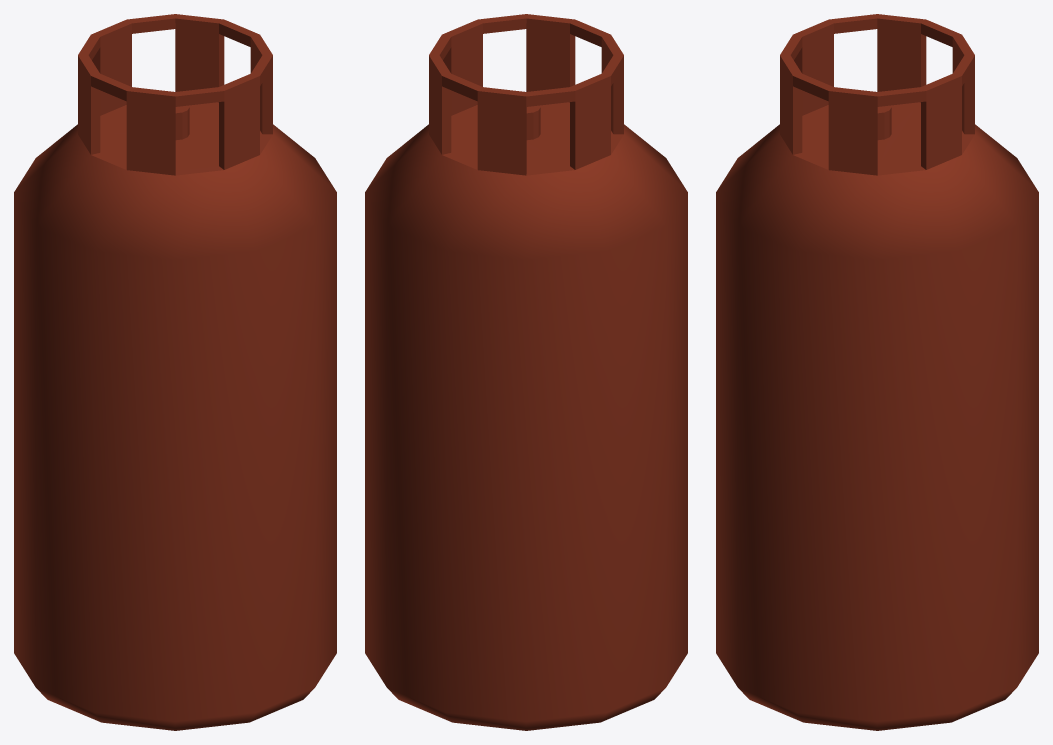
Rendered from lpg.fbx.
3 views of the same model, side by side, from view 1: azimuth 30°, elevation 25°; view 2: azimuth 150°, elevation 25°; view 3: azimuth 270°, elevation 25° (orthographic).
Parts seen in each view (by area): view 1: lpg_gas; view 2: lpg_gas; view 3: lpg_gas.
Part boxes in pixels (x1=…): lpg_gas: x1=14, y1=14, x2=336, y2=730; lpg_gas: x1=365, y1=14, x2=687, y2=730; lpg_gas: x1=716, y1=14, x2=1038, y2=730.
Bounding box in the file's own units: 44.01 × 92.35 × 44.01.
